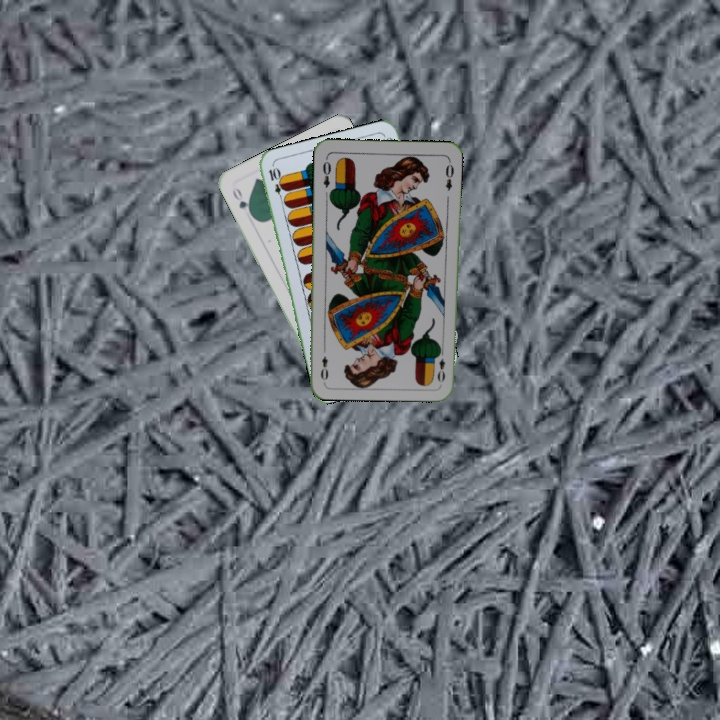E10: (265, 164, 287, 204)
EO: (433, 345, 448, 385), (319, 154, 334, 190)
GO: (228, 183, 255, 219)
